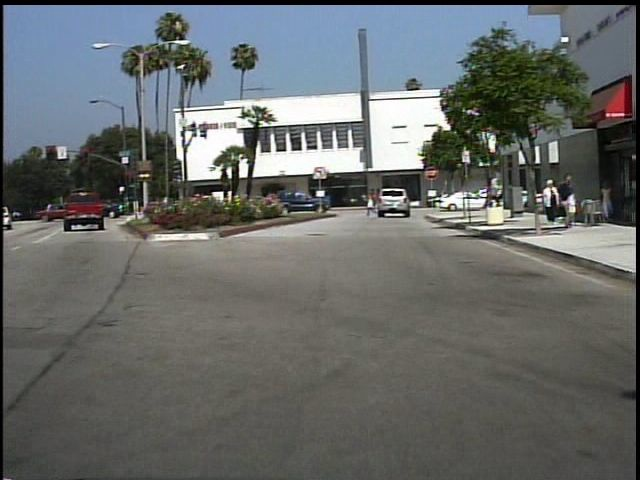person: (560, 172, 580, 230), (594, 179, 617, 225), (542, 178, 562, 225), (477, 181, 501, 214), (364, 187, 380, 218)
